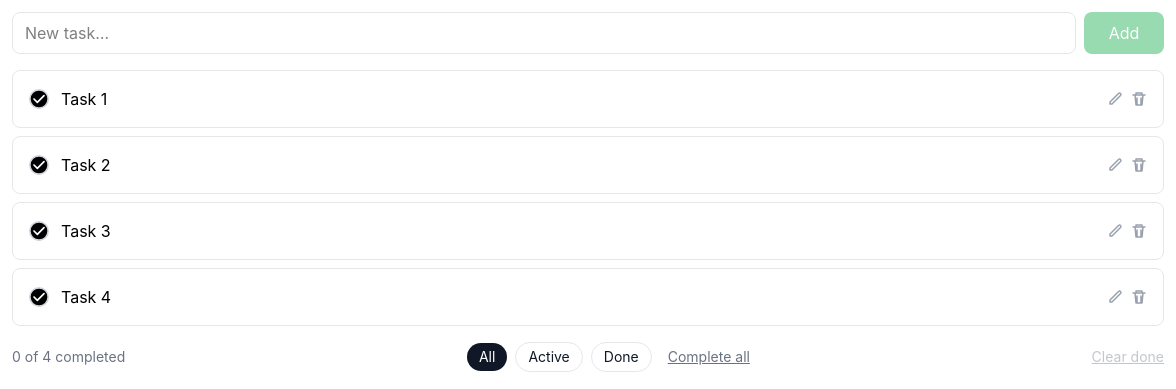
Test case: bulk action error feedback › does not duplicate tasks when Complete all partially fails across several concurrent completions
expect the text "Task 1" is shown: met, box x1=61 y1=89 x2=107 y2=109
What coordinates should you click on to do the following:
click the button "Complete all"
I would click on:
 (709, 357)
Its box is x1=668 y1=347 x2=750 y2=367.
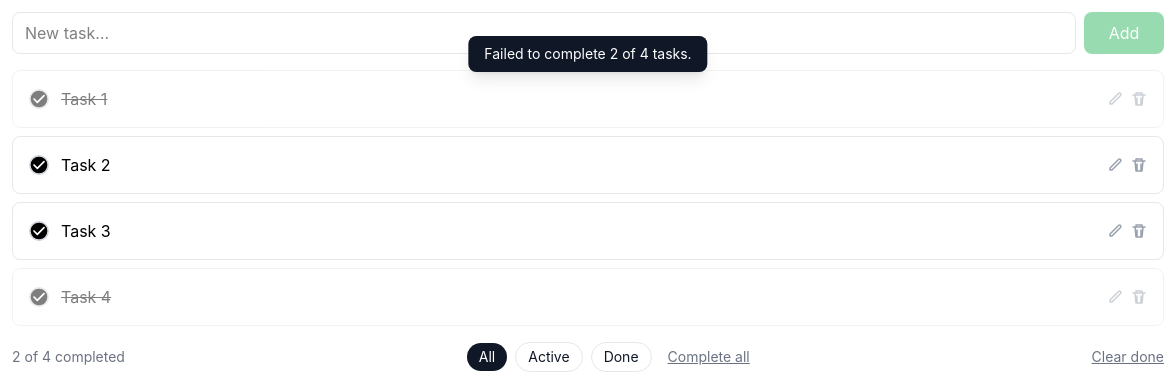
expect the number of buttons named "mark incomplete" is 2: met, box x1=29 y1=89 x2=49 y2=109; x1=29 y1=287 x2=49 y2=307
expect the message reads "Failed to complete 2 of 4 tasks.": met, box x1=484 y1=45 x2=692 y2=62
